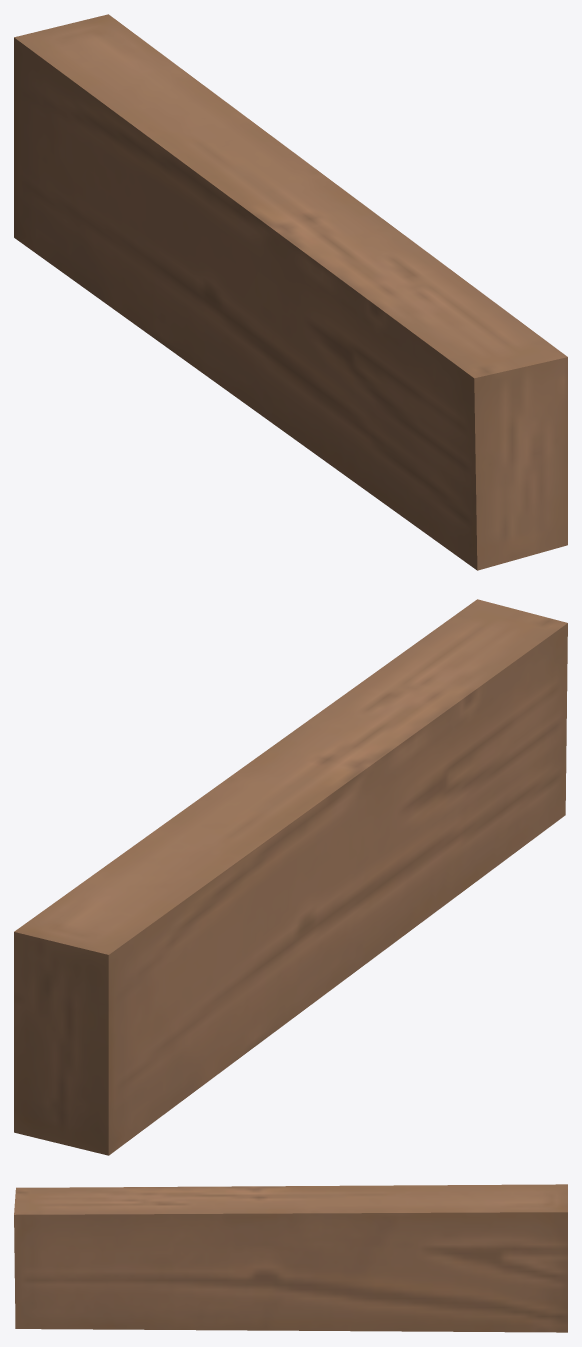
Rendered from Prfb_WoodBoards.fbx.
The picture shows the model from 3 angles, top to bottom: view 1: azimuth 30°, elevation 25°; view 2: azimuth 150°, elevation 25°; view 3: azimuth 270°, elevation 25°; orthographic projection. The views are drawn at different scales.
Visible parts, largest first — view 1: Mat_WoodBoards_01; view 2: Mat_WoodBoards_01; view 3: Mat_WoodBoards_01.
Part boxes in pixels (box(x1,y1,x2,y2)): Mat_WoodBoards_01: box(14, 14, 567, 570); Mat_WoodBoards_01: box(14, 599, 567, 1155); Mat_WoodBoards_01: box(14, 1184, 567, 1332).
Bounding box in the file's own units: 0.1117 × 0.226 × 0.9426.
Materials: 1 (1 with a texture image).
